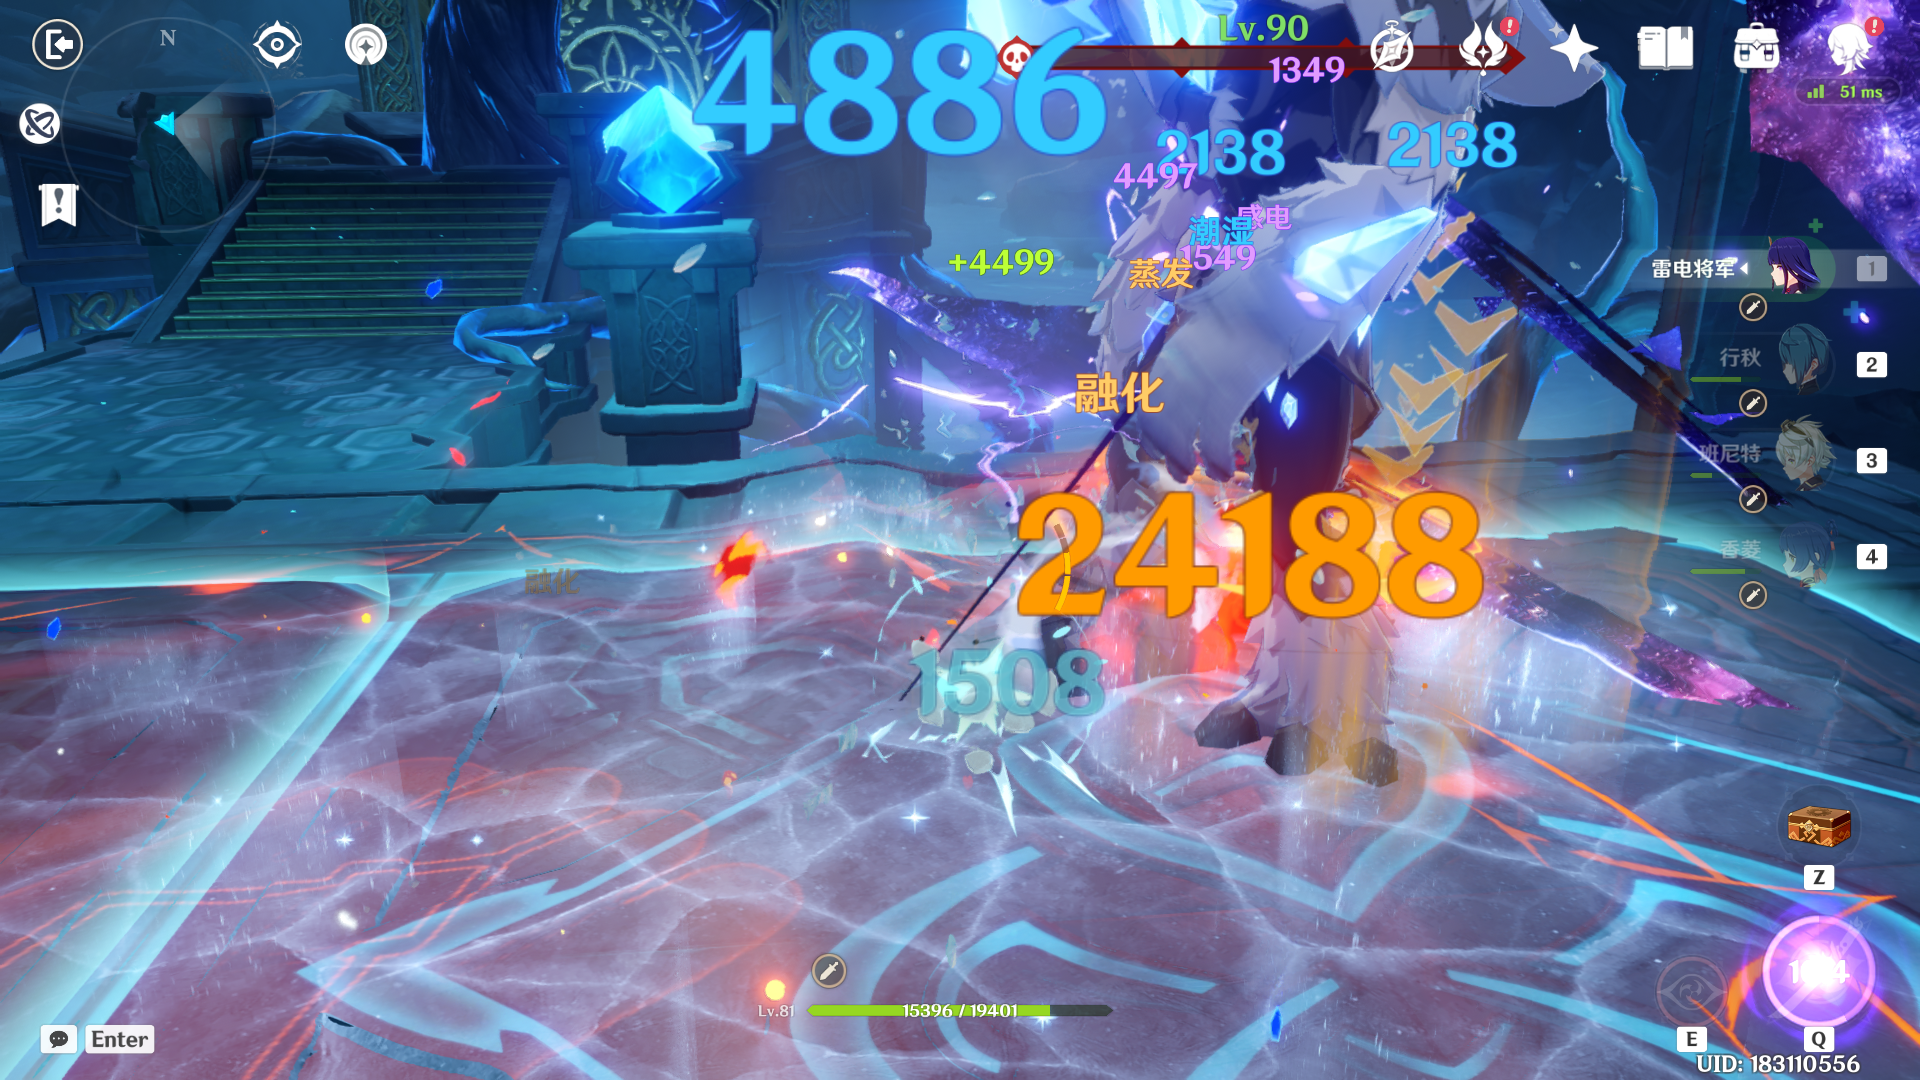bosshili: (972, 1, 1526, 798)
